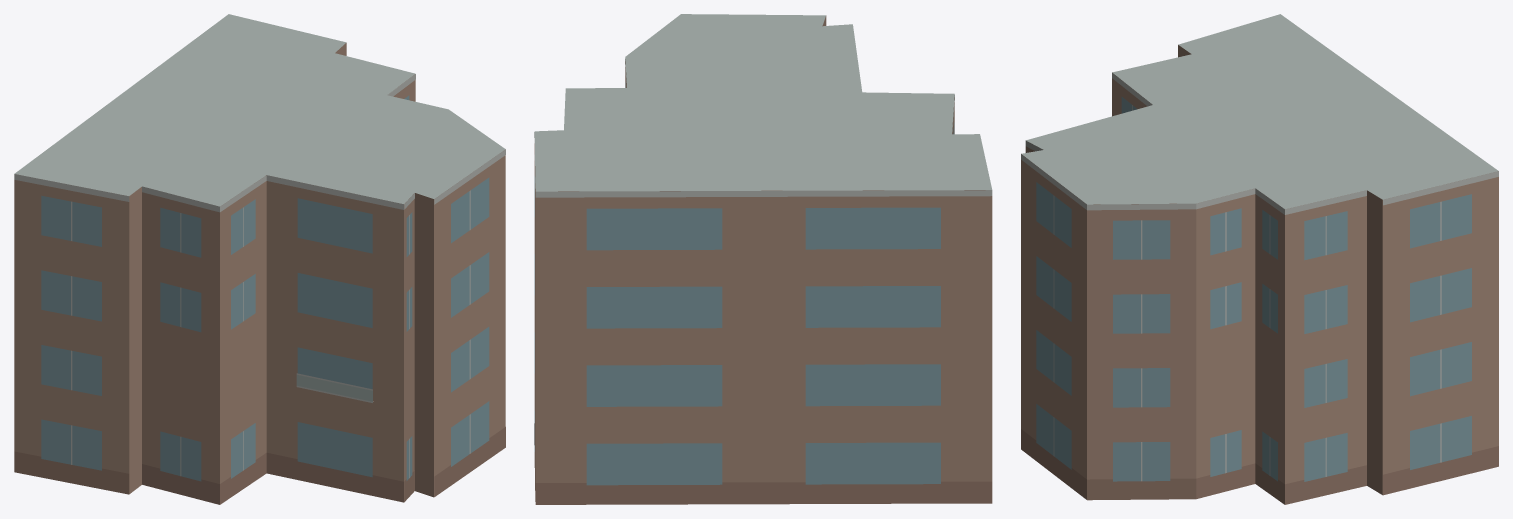
File: survey-upis-32954661.glb
3 renders of one model, left to right at view 1: azimuth 30°, elevation 25°; view 2: azimuth 150°, elevation 25°; view 3: azimuth 270°, elevation 25°, orthographic. The views are drawn at different scales.
Parts seen in each view (by area): view 1: survey-upis-32954661.tmp; view 2: survey-upis-32954661.tmp; view 3: survey-upis-32954661.tmp.
Part boxes in pixels (x1=…): survey-upis-32954661.tmp: x1=14, y1=14, x2=505, y2=504; survey-upis-32954661.tmp: x1=534, y1=14, x2=992, y2=504; survey-upis-32954661.tmp: x1=1021, y1=14, x2=1498, y2=504.
Bounding box in the file's own units: 17.72 × 12.5 × 18.32.
